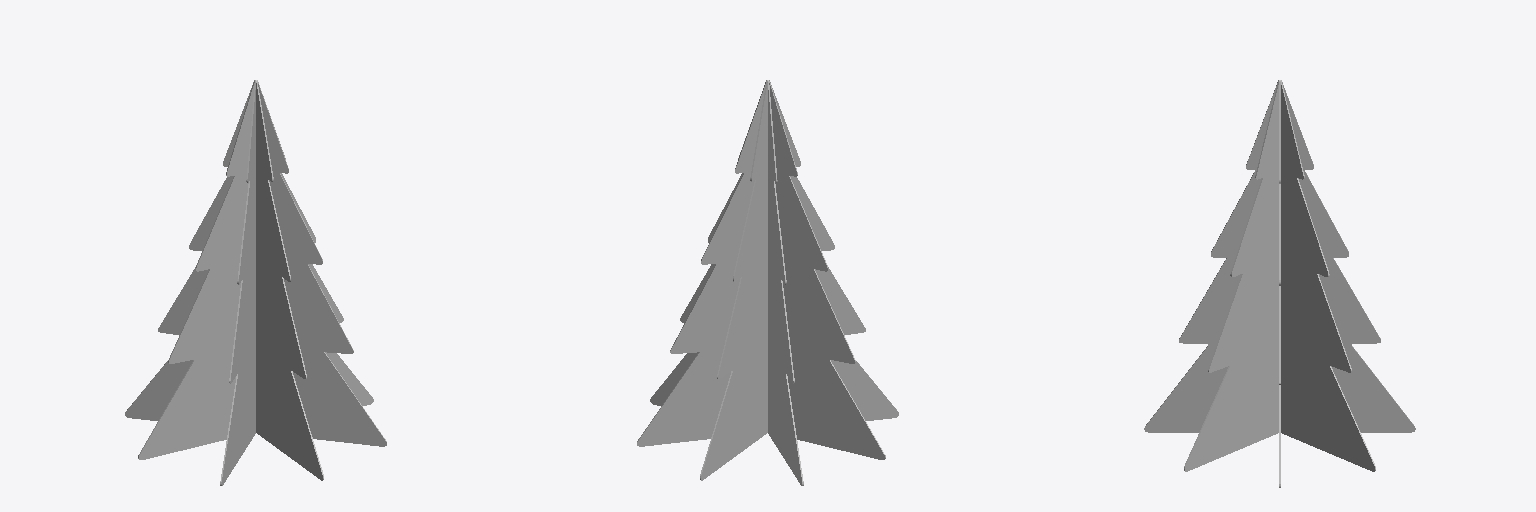
File: Pine_Tree.obj
3 views of the same model, side by side, from view 1: azimuth 30°, elevation 25°; view 2: azimuth 150°, elevation 25°; view 3: azimuth 270°, elevation 25° (orthographic).
Visible parts, largest first — view 1: initialShadingGroup Shape004, initialShadingGroup Shape1, initialShadingGroup Shape002, initialShadingGroup Shape003; view 2: initialShadingGroup Shape003, initialShadingGroup Shape1, initialShadingGroup Shape002, initialShadingGroup Shape004; view 3: initialShadingGroup Shape002, initialShadingGroup Shape003, initialShadingGroup Shape004, initialShadingGroup Shape1.
Part boxes in pixels (x1,y1,x2,y2): initialShadingGroup Shape004: (125,80,386,446); initialShadingGroup Shape1: (138,80,373,459); initialShadingGroup Shape002: (256,80,323,480); initialShadingGroup Shape003: (220,81,255,485); initialShadingGroup Shape003: (637,80,898,446); initialShadingGroup Shape1: (650,80,885,459); initialShadingGroup Shape002: (700,80,767,480); initialShadingGroup Shape004: (768,81,803,485); initialShadingGroup Shape002: (1144,80,1415,432); initialShadingGroup Shape003: (1281,81,1375,471); initialShadingGroup Shape004: (1184,81,1278,471); initialShadingGroup Shape1: (1279,80,1280,487).
Size of the model in its own units: 13.12 by 18.81 by 13.12.